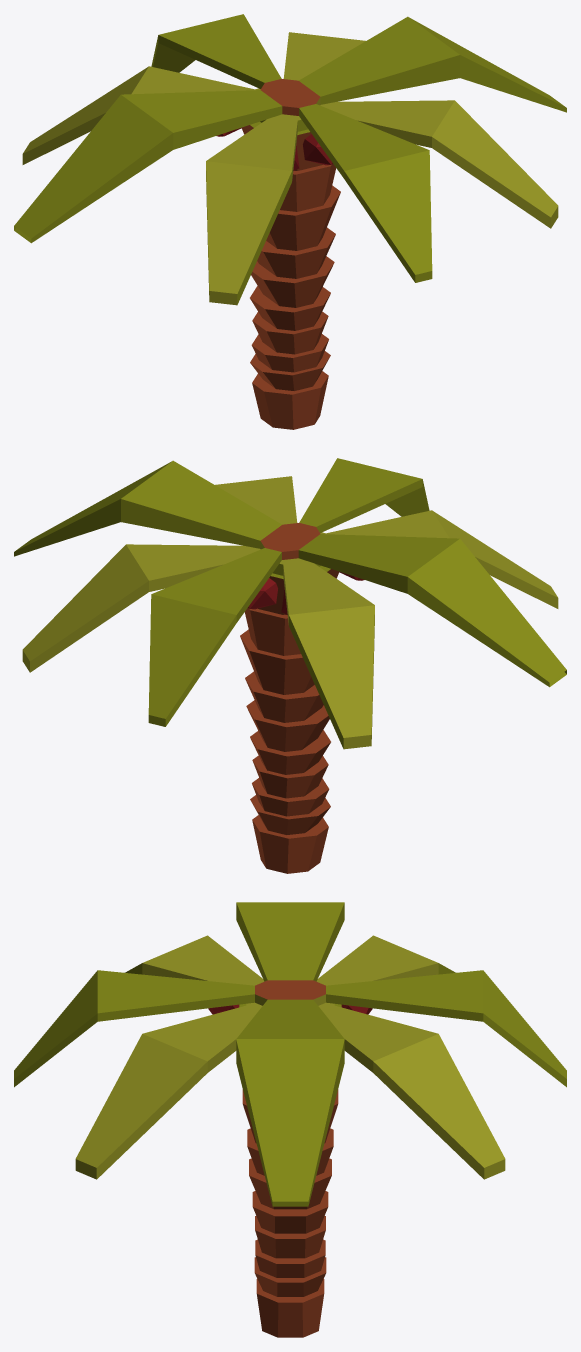
Rendered from palma.fbx.
The picture shows the model from 3 angles, top to bottom: view 1: azimuth 30°, elevation 25°; view 2: azimuth 150°, elevation 25°; view 3: azimuth 270°, elevation 25°; orthographic projection. The views are drawn at different scales.
Parts seen in each view (by area): view 1: Cube; view 2: Cube; view 3: Cube.
Boxes of the visible parts, box(x1,y1,x2,y2) form: Cube: box(14, 14, 566, 429); Cube: box(14, 458, 566, 873); Cube: box(14, 902, 566, 1337).
Bounding box in the file's own units: 2266 × 1401 × 1954.
